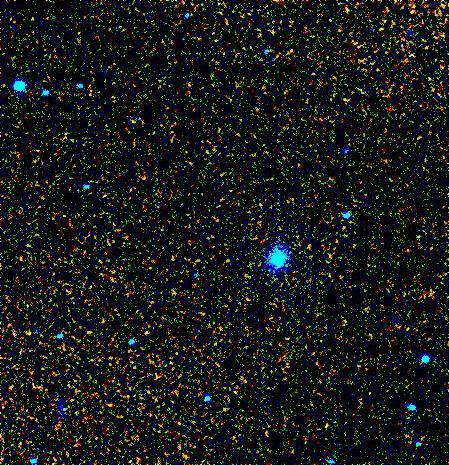star: (220, 380, 250, 410)
